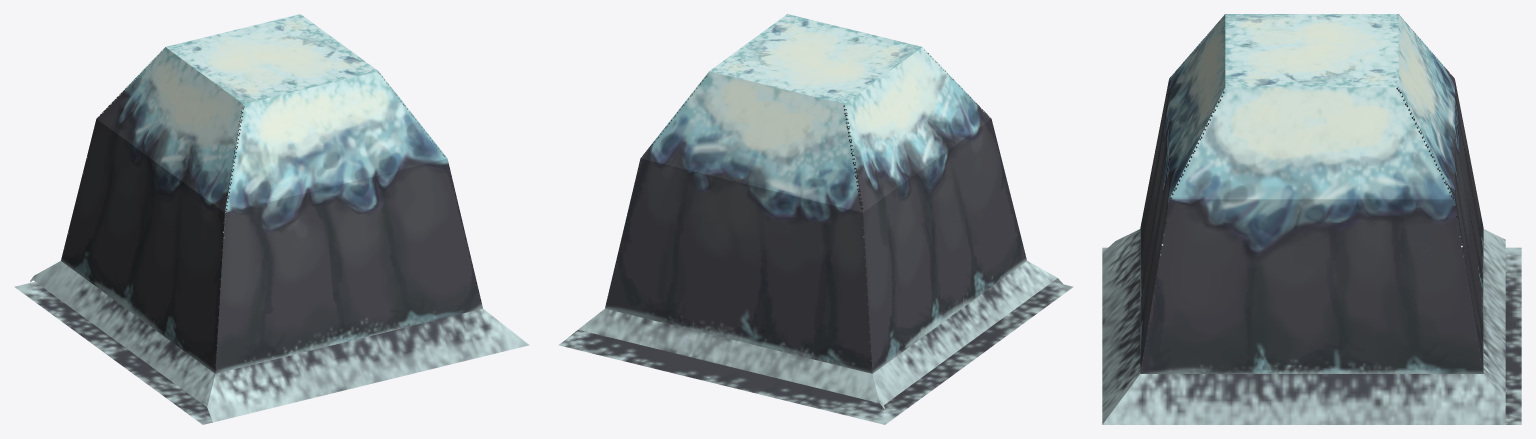
The model's file is icyrock.obj.
The picture shows the model from 3 angles, left to right: view 1: azimuth 30°, elevation 25°; view 2: azimuth 150°, elevation 25°; view 3: azimuth 270°, elevation 25°; orthographic projection. The views are drawn at different scales.
Parts seen in each view (by area): view 1: moss_stone; view 2: moss_stone; view 3: moss_stone.
Part boxes in pixels (x1,y1,x2,y2): moss_stone: (14,14,529,424); moss_stone: (558,14,1073,424); moss_stone: (1102,14,1521,424).
Size of the model in its own units: 2.88 by 2.16 by 2.88.
Materials: 1 (1 with a texture image).
